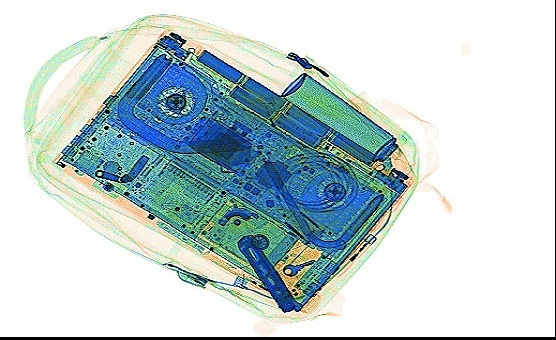knife: (236, 232, 298, 312)
lighter: (331, 227, 376, 279), (231, 272, 288, 309)
pressure: (279, 70, 403, 164)
